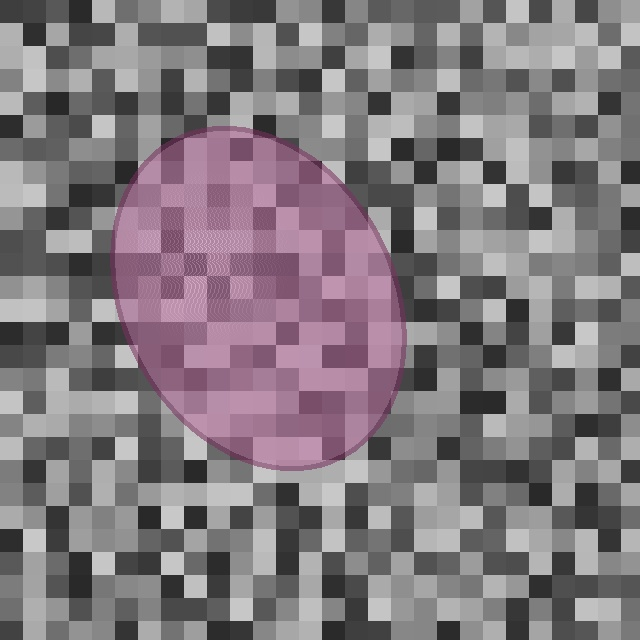lens: (113, 129, 403, 467)
